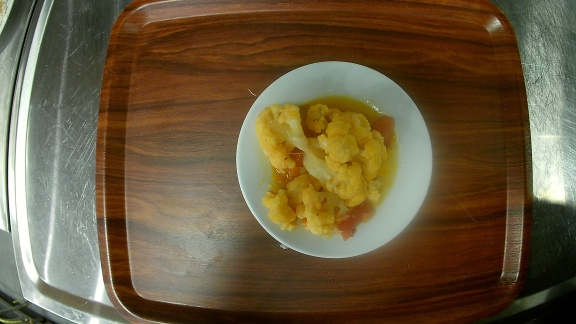karnibahar: (235, 60, 436, 260)
